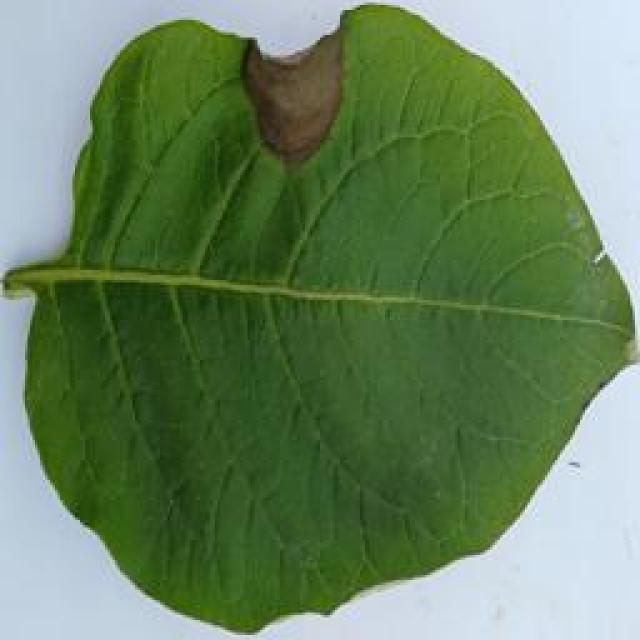Potato_Late_Blight: (3, 14, 622, 630)
